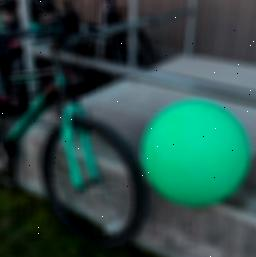algae: (142, 101, 250, 203)
